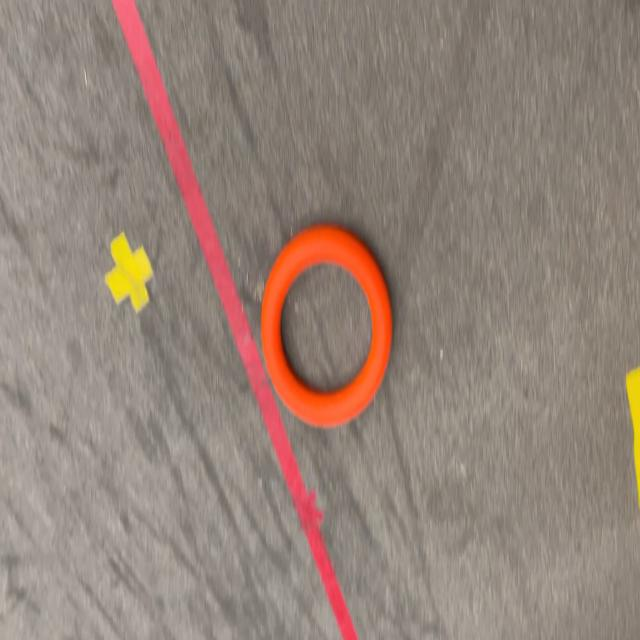note: (261, 226, 392, 425)
